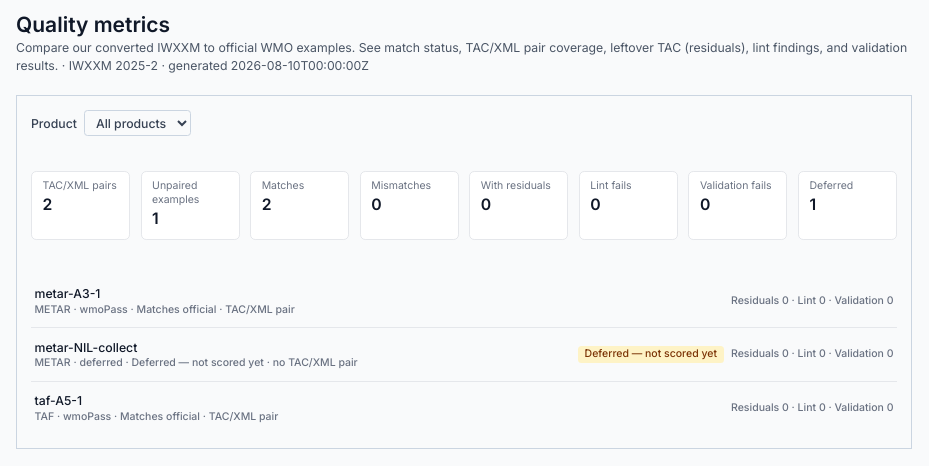
Scenario: QualityMetricsPage (TC-EV054-002) › preserves selected-product pair coverage counts when present
Step 1. Select "METAR" in the dropdown with test id "quality-metrics-product-filter" → x=138, y=123, box x1=84 y1=110 x2=191 y2=136
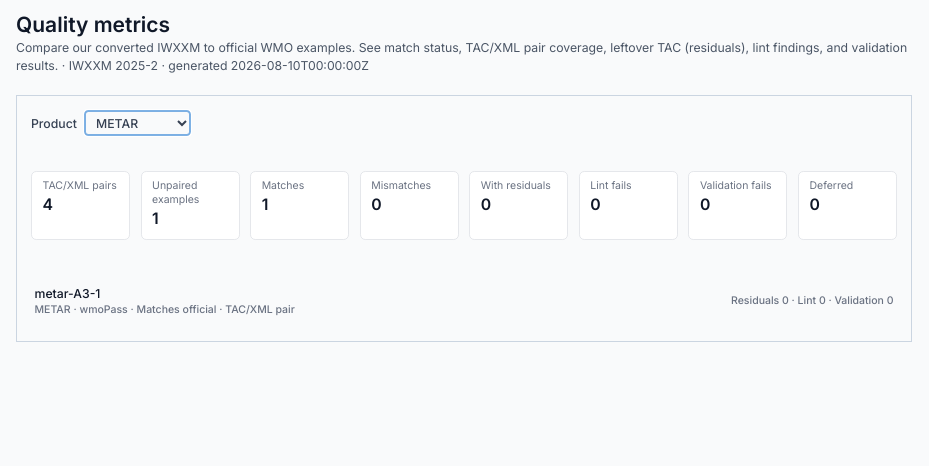
Expected: the element with test id "quality-metrics-summary" shows "TAC/XML pairs", x1=42 y1=179 x2=117 y2=192
Expected: the element with test id "quality-metrics-summary" shows "4", x1=42 y1=195 x2=53 y2=214
